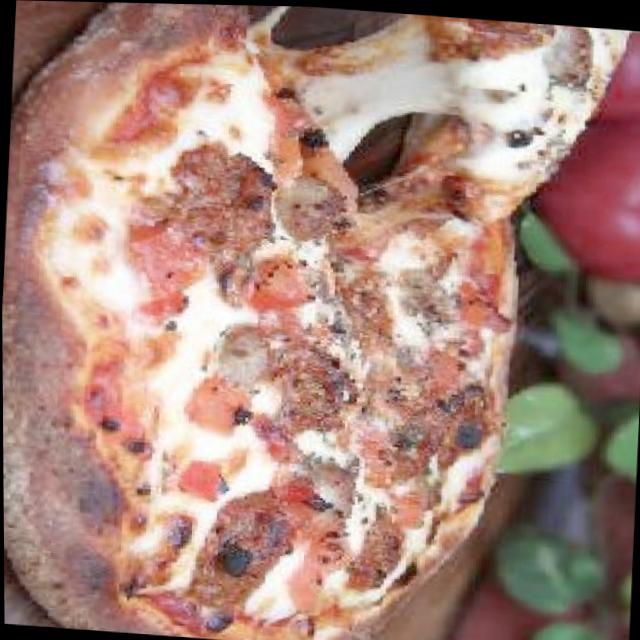汉堡快餐: (0, 0, 539, 640)
